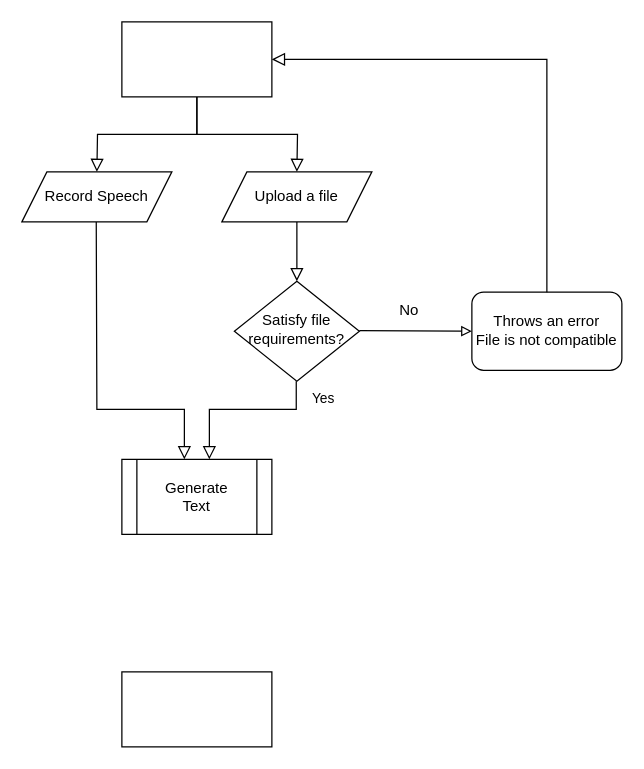
Some shapes in this 644 by 769 pixel diagram are drawn without their labels. The centre of each missing label's shape, as x and y in pixels:
End: point 196,709
Start: point 196,59
